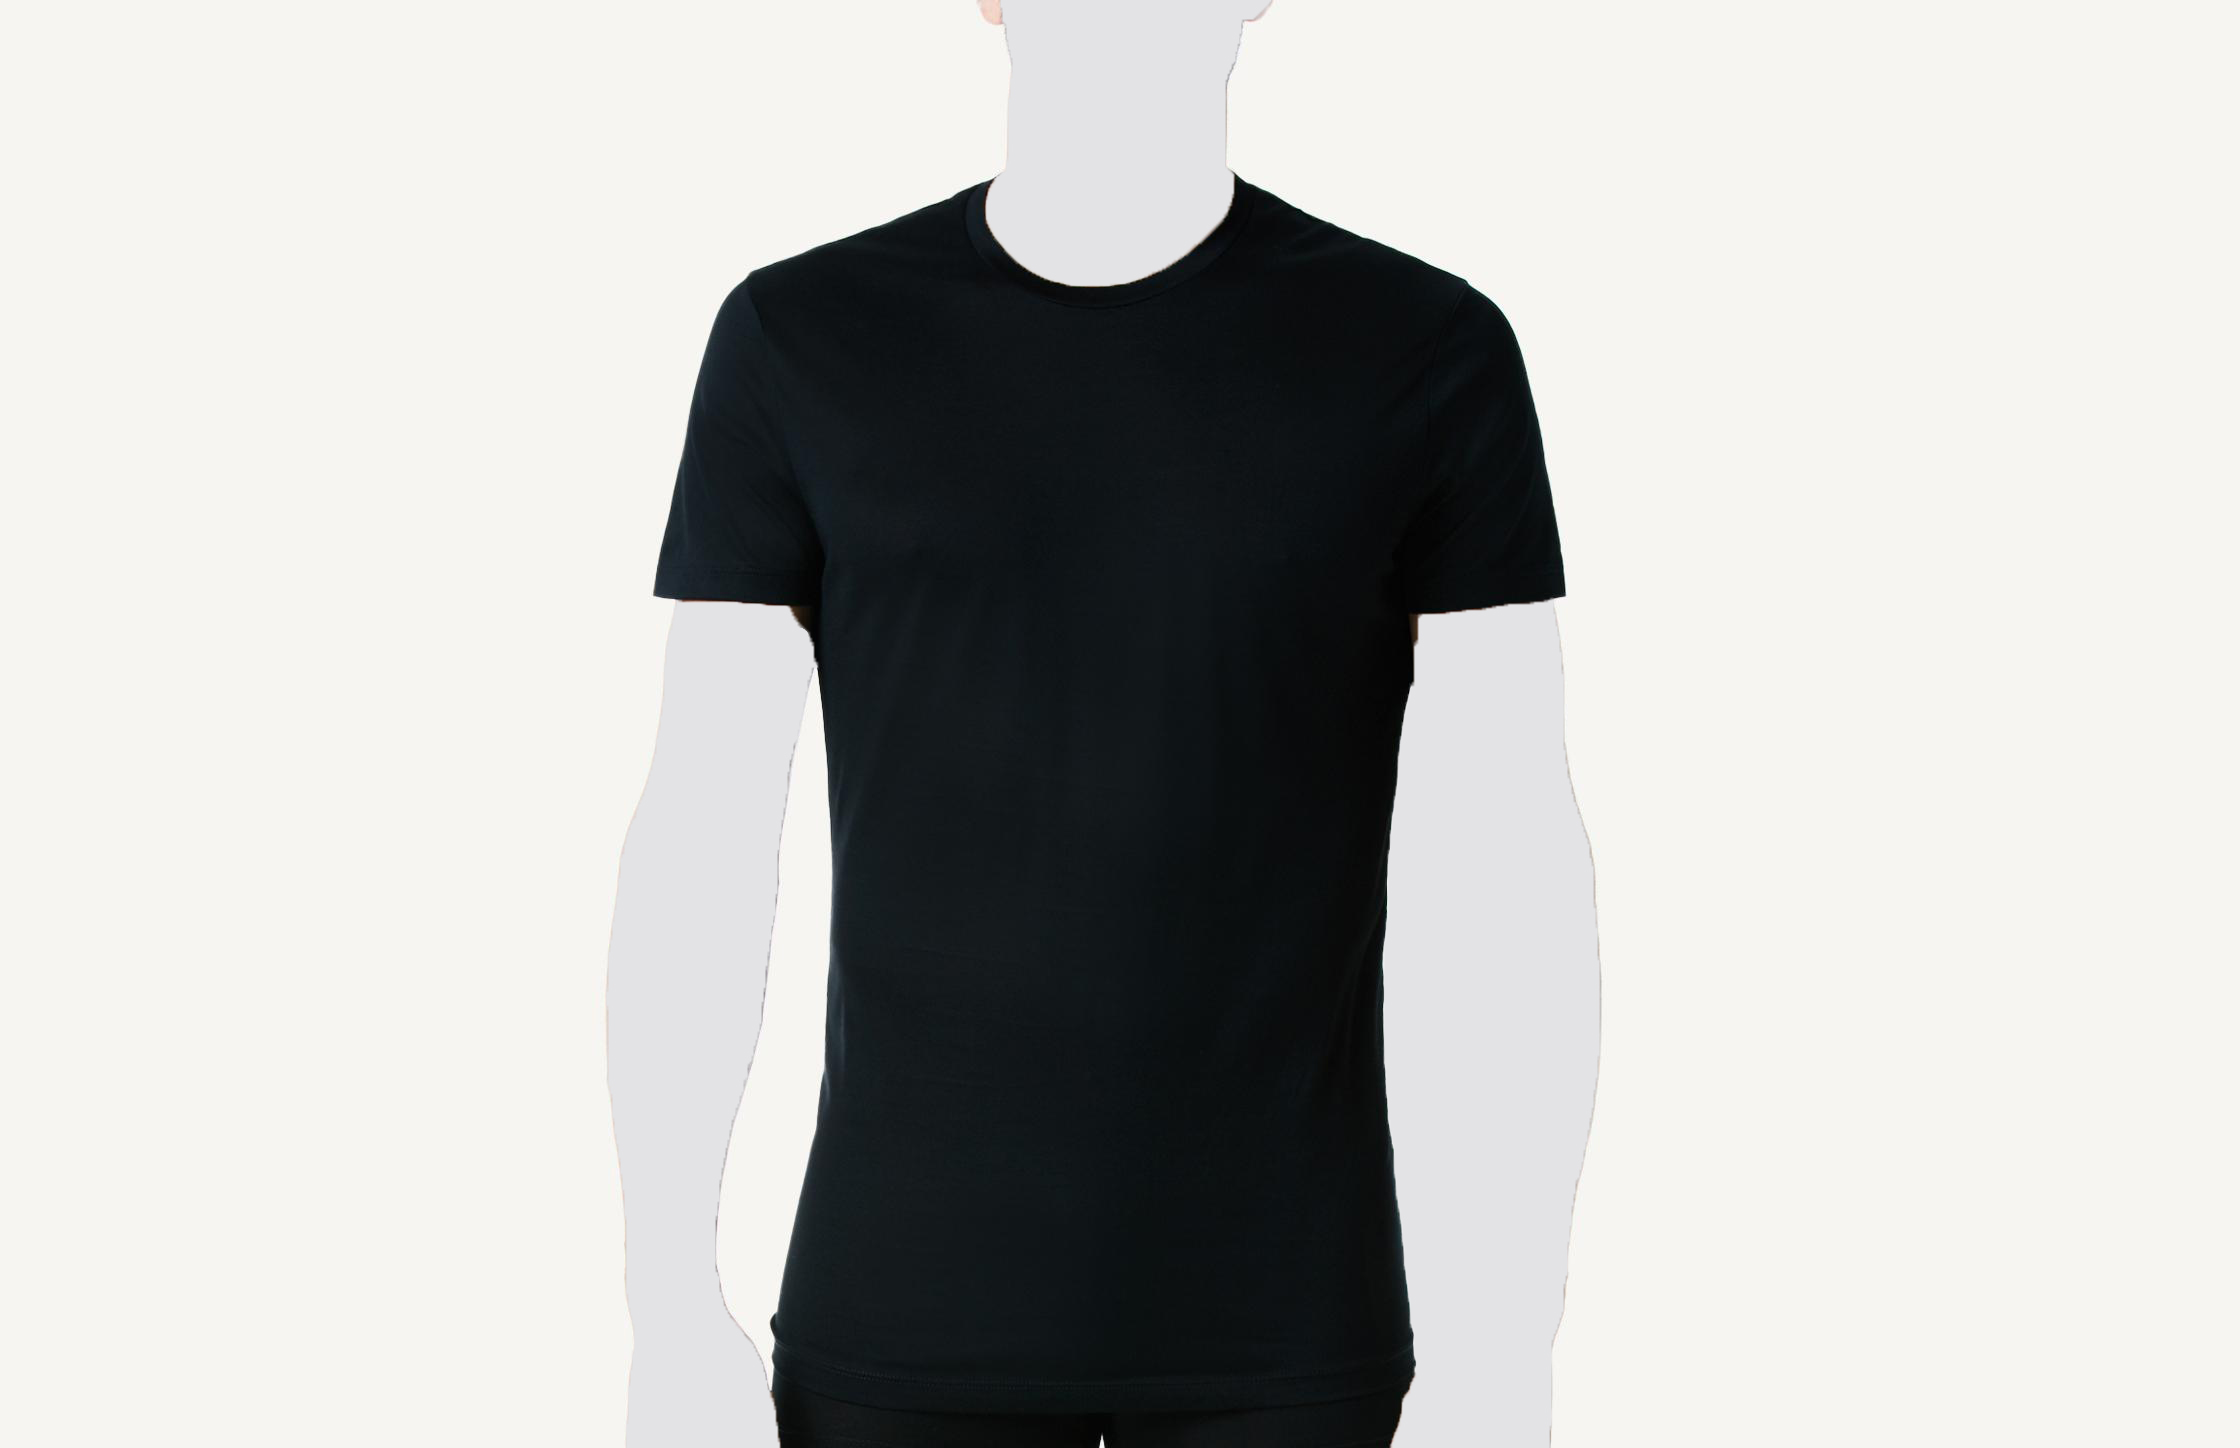teeshirt: (647, 171, 1569, 1448)
